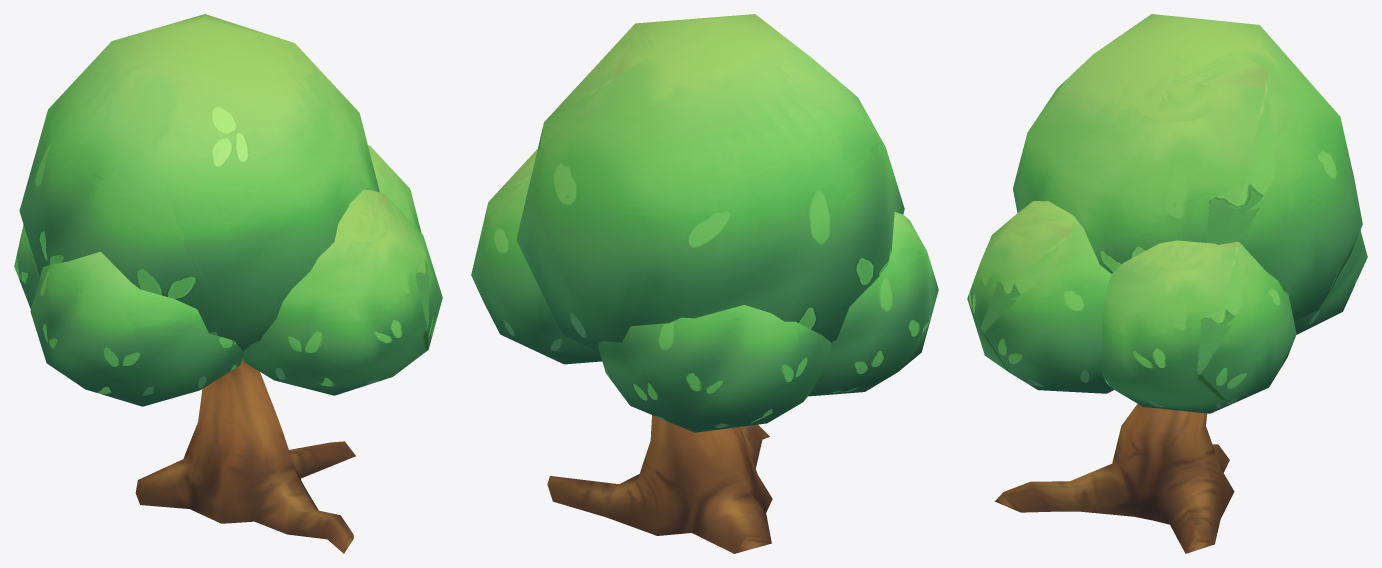
The model's file is tree_2.gltf.
3 views of the same model, side by side, from view 1: azimuth 30°, elevation 25°; view 2: azimuth 150°, elevation 25°; view 3: azimuth 270°, elevation 25° (orthographic). The views are drawn at different scales.
Parts seen in each view (by area): view 1: Tree2; view 2: Tree2; view 3: Tree2.
Part boxes in pixels (x1=…): Tree2: x1=14, y1=14, x2=442, y2=553; Tree2: x1=471, y1=14, x2=938, y2=553; Tree2: x1=967, y1=14, x2=1367, y2=553.
Size of what is drawn, in the model's own units: 2.69 by 3.14 by 2.47.
Materials: 2 (2 with a texture image).
